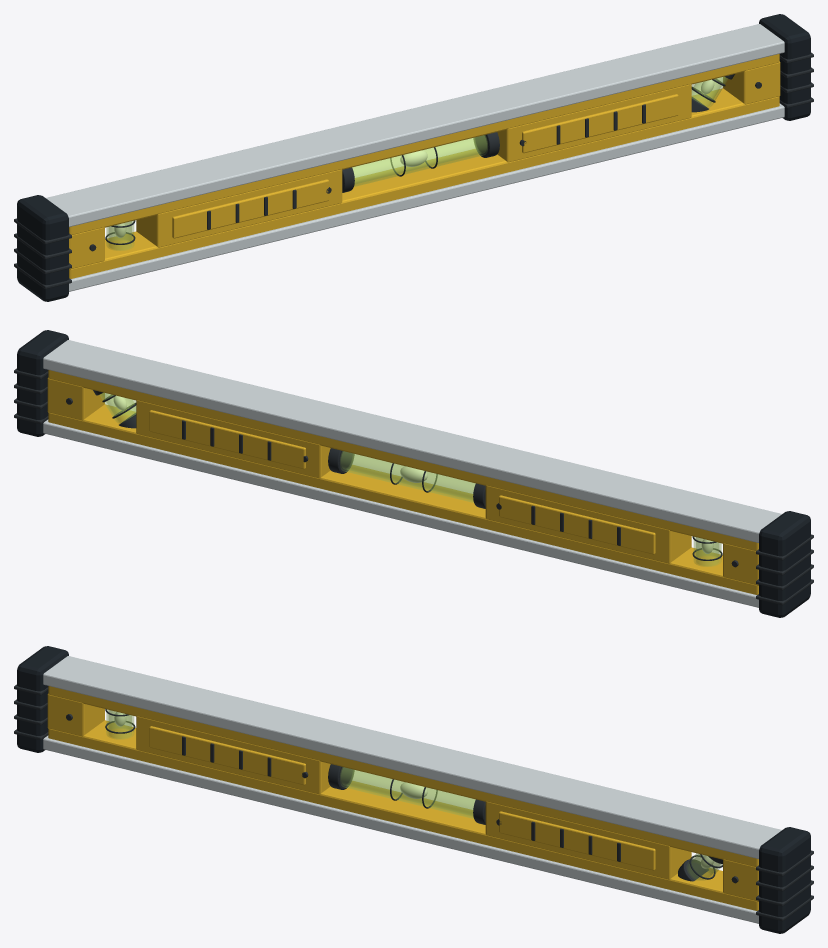
The model's file is city-three-vial-spirit-level.glb.
3 renders of one model, top to bottom at view 1: azimuth 30°, elevation 25°; view 2: azimuth 150°, elevation 25°; view 3: azimuth 330°, elevation 25°, orthographic.
Visible parts, largest first — view 1: Assembly | Machined bright edges, Assembly | Yellow level coating, Assembly | Dark molded grips, Assembly | Transparent green-tinted vial shell, Assembly | Blackened hardware, Assembly | Fixed pale bubble indicator; view 2: Assembly | Machined bright edges, Assembly | Yellow level coating, Assembly | Dark molded grips, Assembly | Transparent green-tinted vial shell, Assembly | Blackened hardware, Assembly | Fixed pale bubble indicator; view 3: Assembly | Machined bright edges, Assembly | Yellow level coating, Assembly | Dark molded grips, Assembly | Transparent green-tinted vial shell, Assembly | Blackened hardware, Assembly | Fixed pale bubble indicator.
Part boxes in pixels (x1,y1,x2,y2): Assembly | Machined bright edges: (46,24,784,291); Assembly | Yellow level coating: (69,54,780,278); Assembly | Dark molded grips: (17,14,810,301); Assembly | Transparent green-tinted vial shell: (106,76,727,250); Assembly | Blackened hardware: (14,52,813,289); Assembly | Fixed pale bubble indicator: (114,79,714,237); Assembly | Machined bright edges: (43,340,781,607); Assembly | Yellow level coating: (47,370,758,594); Assembly | Dark molded grips: (17,330,810,617); Assembly | Transparent green-tinted vial shell: (100,392,721,566); Assembly | Blackened hardware: (14,368,813,605); Assembly | Fixed pale bubble indicator: (113,395,713,553); Assembly | Machined bright edges: (43,656,781,923); Assembly | Yellow level coating: (47,686,758,910); Assembly | Dark molded grips: (17,646,810,933); Assembly | Transparent green-tinted vial shell: (106,709,722,880); Assembly | Blackened hardware: (14,684,813,921); Assembly | Fixed pale bubble indicator: (114,712,713,868).
Size of the model in its own units: 0.647 by 0.068 by 0.046.
